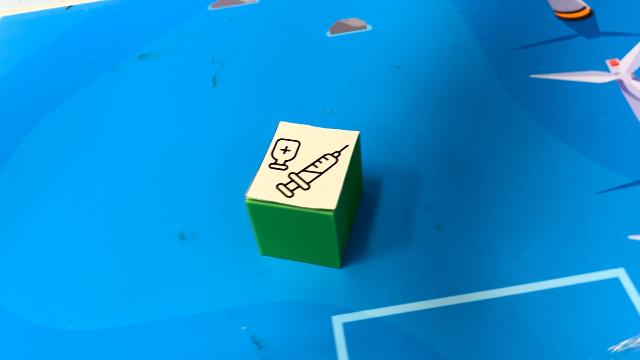syringe: (243, 119, 365, 269)
